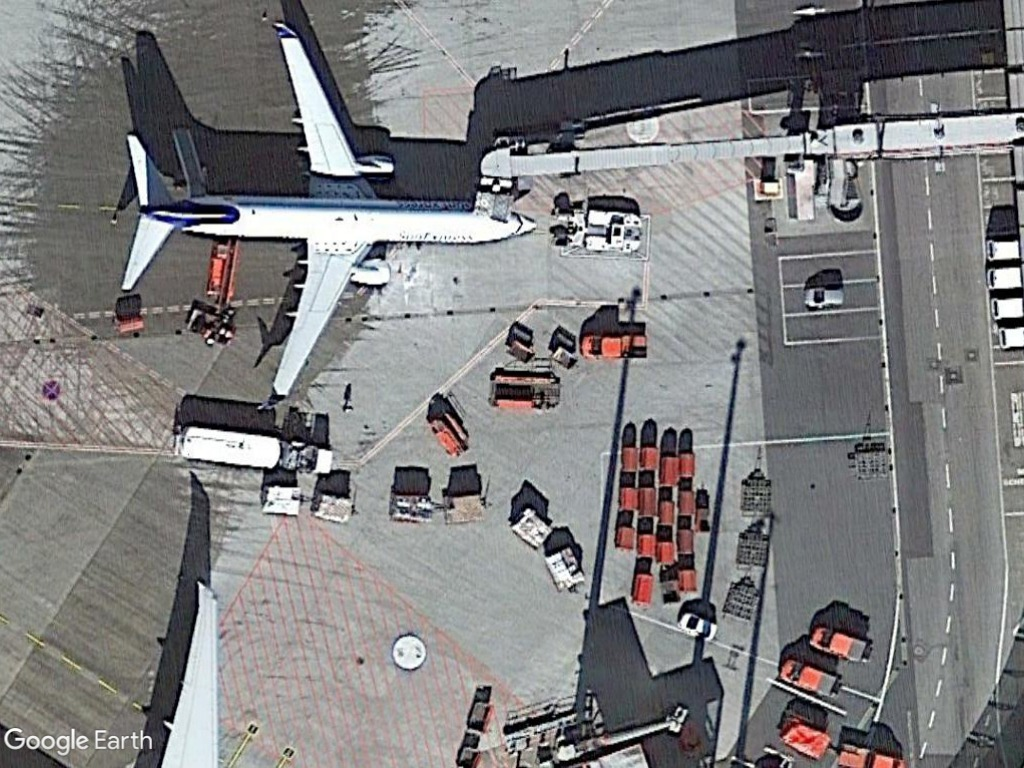airliner: (115, 19, 540, 404)
longvehicle: (170, 420, 287, 473)
pushbacktruck: (546, 203, 646, 257)
van: (799, 285, 847, 311)
